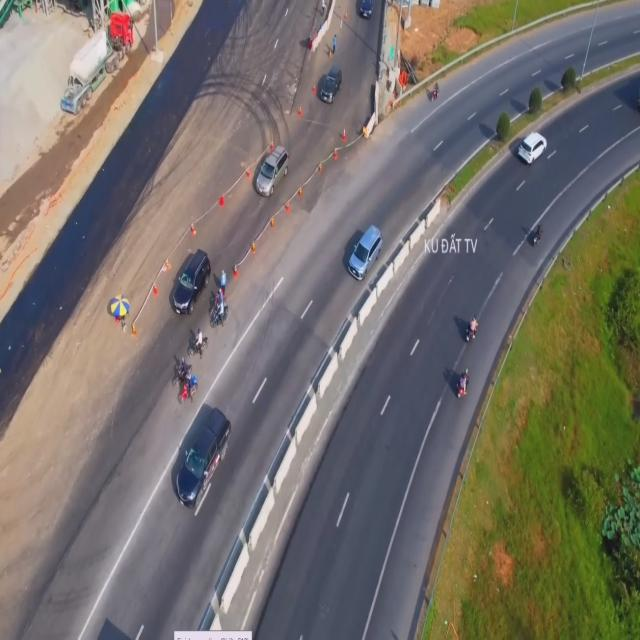car: (176, 404, 236, 518), (172, 246, 211, 320), (348, 219, 385, 283), (252, 140, 290, 202), (318, 64, 344, 105), (518, 132, 546, 164), (355, 0, 376, 20)
motorbike: (176, 375, 197, 406), (187, 334, 208, 361), (208, 301, 227, 328), (455, 368, 473, 396), (466, 317, 478, 344), (532, 221, 543, 248)
